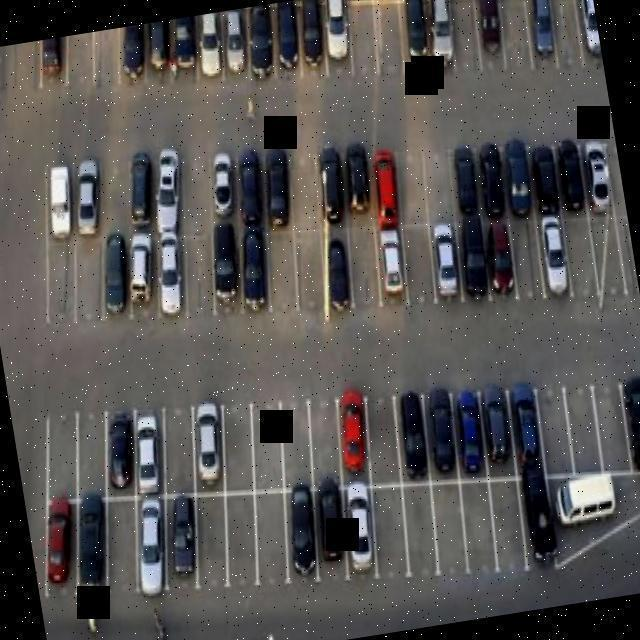space-empty: (214, 487, 270, 591), (479, 475, 533, 578), (394, 477, 448, 578), (453, 477, 504, 579), (183, 491, 236, 589), (358, 395, 411, 493), (95, 491, 145, 593), (425, 480, 476, 580), (60, 225, 113, 320), (364, 485, 417, 578), (30, 409, 84, 500), (63, 414, 117, 505), (210, 404, 265, 493), (529, 380, 578, 479), (556, 383, 607, 478), (248, 494, 298, 589), (172, 145, 224, 236), (384, 138, 434, 231), (270, 403, 321, 493), (583, 212, 632, 305), (587, 385, 635, 479), (339, 219, 387, 313), (244, 405, 294, 495), (299, 400, 349, 490), (258, 226, 308, 316), (413, 140, 463, 228), (34, 238, 84, 326), (437, 0, 491, 78), (286, 222, 333, 311), (88, 150, 137, 235), (282, 149, 331, 232), (175, 232, 224, 315), (157, 408, 202, 497), (558, 219, 602, 308), (504, 211, 549, 297), (492, 0, 543, 75), (395, 220, 440, 302), (339, 0, 386, 74), (540, 0, 589, 67), (367, 0, 411, 74), (608, 214, 640, 301), (59, 32, 102, 96), (88, 28, 129, 95), (600, 141, 628, 221)
space-occupied: (60, 489, 116, 599), (122, 495, 180, 599), (32, 500, 90, 600), (93, 405, 146, 503), (336, 485, 389, 583), (327, 390, 380, 488), (304, 487, 358, 583), (508, 476, 562, 572), (274, 484, 325, 584), (121, 409, 174, 504), (158, 490, 207, 592), (463, 132, 517, 223), (473, 388, 522, 487), (33, 156, 85, 247), (184, 405, 235, 495), (528, 214, 579, 304), (312, 226, 363, 316), (332, 136, 381, 229), (231, 223, 279, 317), (202, 216, 250, 310), (142, 142, 190, 236), (90, 229, 138, 323), (118, 145, 166, 239), (223, 144, 273, 234), (309, 0, 363, 83), (492, 136, 542, 224), (448, 214, 496, 304), (147, 230, 196, 318), (287, 0, 337, 85), (505, 388, 551, 480), (416, 393, 463, 482), (119, 231, 166, 320), (521, 135, 569, 222), (235, 4, 283, 91), (439, 139, 488, 224), (388, 0, 440, 79), (263, 0, 313, 82), (547, 138, 596, 221), (463, 0, 516, 76), (360, 137, 405, 226), (199, 142, 244, 231), (62, 154, 109, 239), (251, 146, 299, 229), (214, 8, 261, 92), (445, 391, 491, 476), (476, 214, 522, 299), (389, 393, 434, 479), (421, 215, 466, 301), (414, 0, 464, 76), (513, 0, 565, 72), (308, 144, 351, 230), (186, 12, 235, 87), (574, 136, 618, 216), (110, 24, 159, 95), (160, 16, 209, 87), (610, 378, 640, 488), (368, 222, 408, 303), (31, 36, 78, 103), (138, 20, 183, 89), (564, 0, 604, 74)
